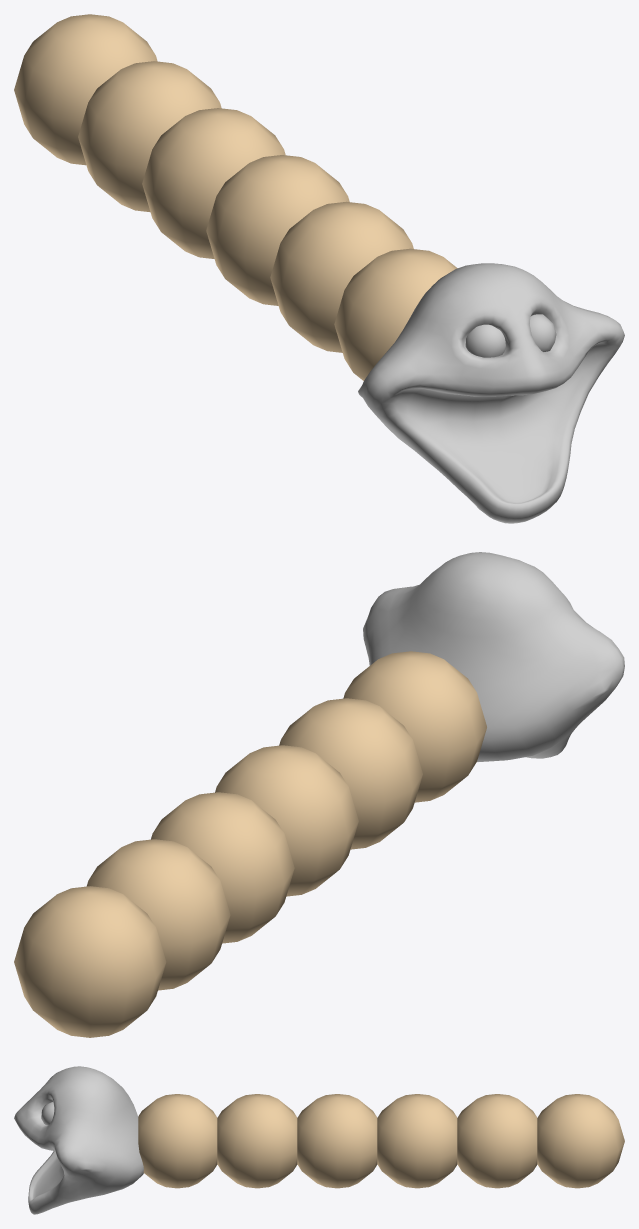
The model's file is chongzi.FBX.
The picture shows the model from 3 angles, top to bottom: view 1: azimuth 30°, elevation 25°; view 2: azimuth 150°, elevation 25°; view 3: azimuth 270°, elevation 25°; orthographic projection. The views are drawn at different scales.
Parts seen in each view (by area): view 1: tou, shenti6, shenti2, shenti4, shenti5, shenti3, shenti1; view 2: tou, shenti6, shenti1, shenti5, shenti2, shenti4, shenti3; view 3: tou, shenti6, shenti5, shenti3, shenti4, shenti2, shenti1.
Boxes of the visible parts, bbox=[...] form: tou: bbox=[358, 263, 624, 523]; shenti6: bbox=[14, 14, 157, 165]; shenti2: bbox=[270, 201, 413, 352]; shenti4: bbox=[142, 108, 285, 258]; shenti5: bbox=[78, 61, 221, 212]; shenti3: bbox=[206, 155, 349, 305]; shenti1: bbox=[334, 248, 457, 380]; tou: bbox=[363, 552, 624, 761]; shenti6: bbox=[14, 886, 166, 1037]; shenti1: bbox=[343, 651, 486, 802]; shenti5: bbox=[86, 839, 230, 990]; shenti2: bbox=[279, 698, 422, 849]; shenti4: bbox=[151, 792, 294, 943]; shenti3: bbox=[215, 745, 358, 896]; tou: bbox=[14, 1066, 143, 1214]; shenti6: bbox=[537, 1094, 624, 1188]; shenti5: bbox=[457, 1094, 537, 1188]; shenti3: bbox=[297, 1094, 377, 1188]; shenti4: bbox=[377, 1094, 457, 1188]; shenti2: bbox=[217, 1094, 297, 1188]; shenti1: bbox=[138, 1094, 217, 1188].
Bounding box in the file's own units: 341 × 289 × 1151.
